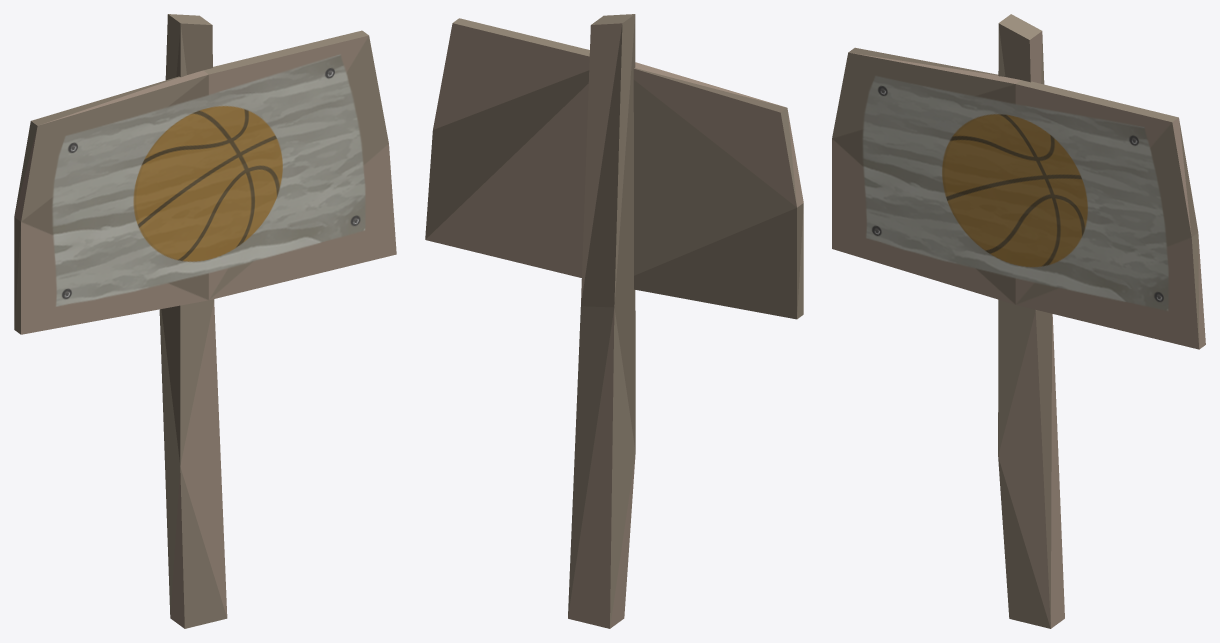
Rendered from cartel_ejercicios_cancha.FBX.
The picture shows the model from 3 angles, left to right: view 1: azimuth 30°, elevation 25°; view 2: azimuth 150°, elevation 25°; view 3: azimuth 330°, elevation 25°; orthographic projection. The views are drawn at different scales.
Visible parts, largest first — view 1: Poste004; view 2: Poste004; view 3: Poste004.
Boxes of the visible parts, x1,y1,x2,y2 form: Poste004: [14, 14, 396, 628]; Poste004: [425, 14, 803, 628]; Poste004: [832, 14, 1205, 628].
Size of the model in its own units: 87.02 by 135 by 10.74.
1 material, 1 textured.
